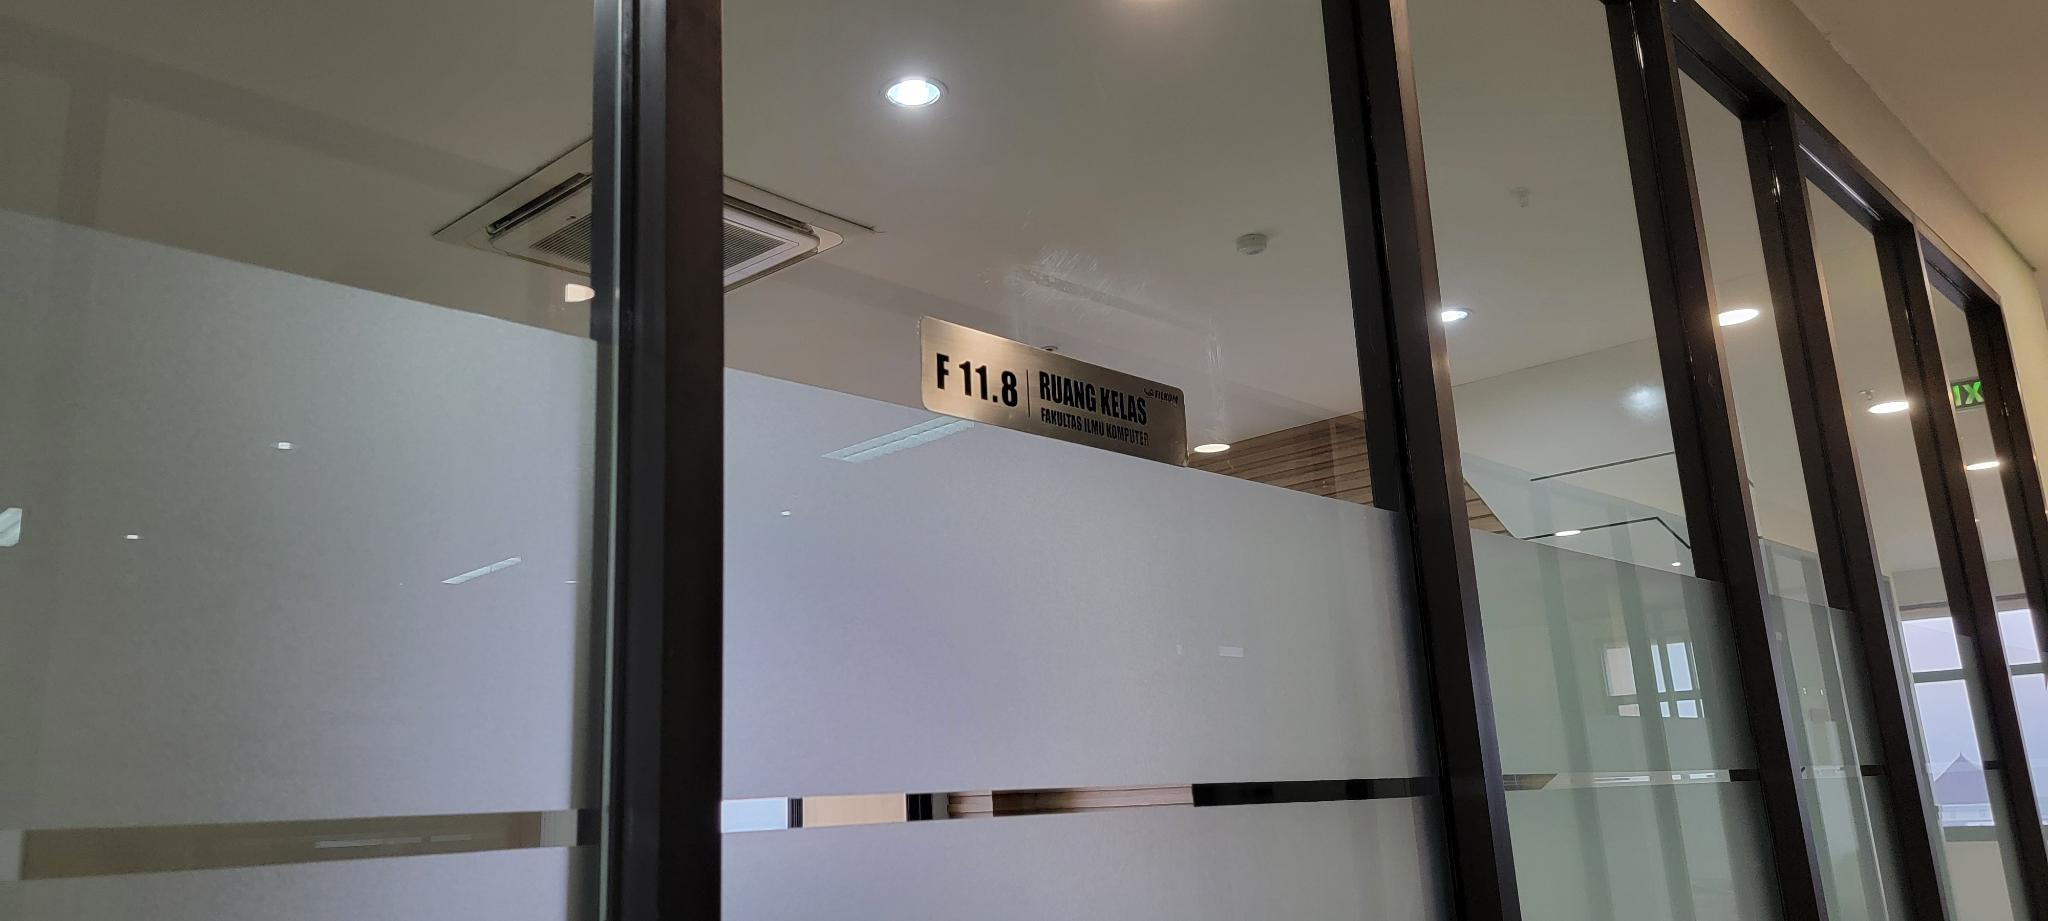plate: (917, 311, 1190, 470)
